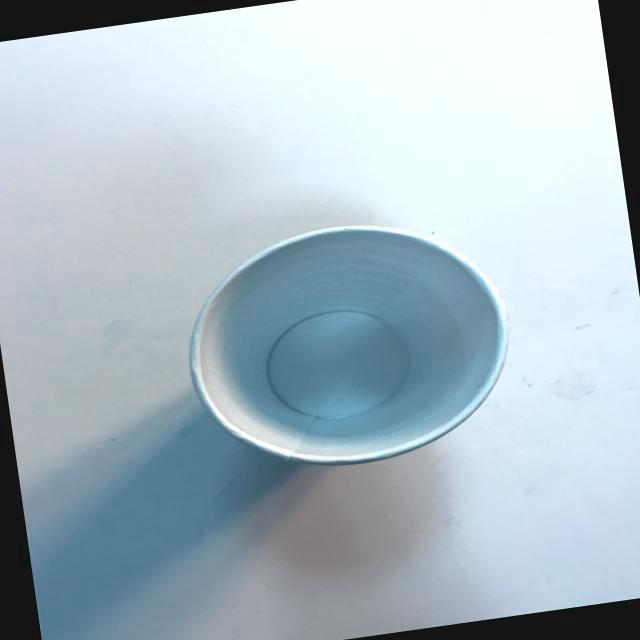plastic: (158, 195, 548, 512)
